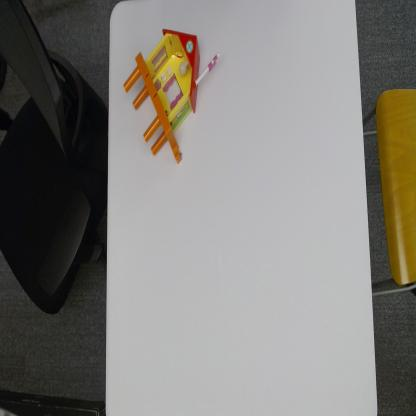House: (124, 22, 220, 166)
